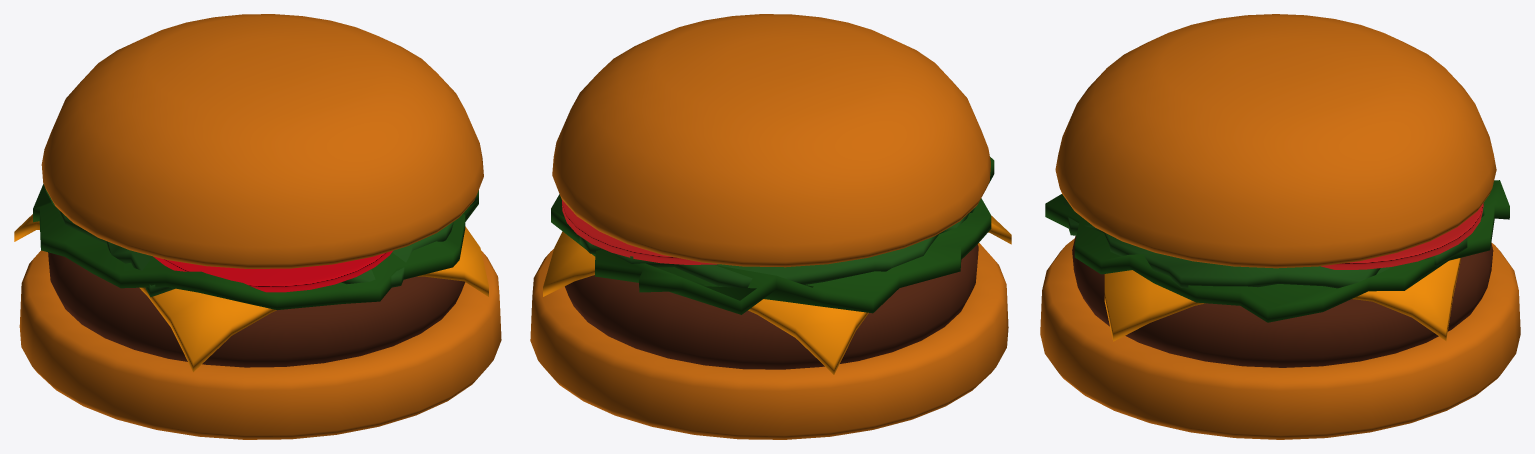
File: burger v1.fbx
The picture shows the model from 3 angles, left to right: view 1: azimuth 30°, elevation 25°; view 2: azimuth 150°, elevation 25°; view 3: azimuth 270°, elevation 25°; orthographic projection.
Visible parts, largest first — view 1: Cylinder.006, Cylinder, Cylinder.001, Cylinder.002, Plane, Cylinder.005, Cylinder.003; view 2: Cylinder.006, Cylinder, Cylinder.001, Cylinder.002, Plane, Cylinder.003, Cylinder.004; view 3: Cylinder.006, Cylinder, Cylinder.001, Cylinder.002, Plane, Cylinder.003, Cylinder.004.
Boxes of the visible parts, x1,y1,x2,y2 form: Cylinder.006: [41, 14, 483, 268]; Cylinder: [19, 250, 501, 439]; Cylinder.001: [48, 252, 465, 367]; Cylinder.002: [33, 184, 478, 309]; Plane: [14, 214, 488, 372]; Cylinder.005: [153, 251, 392, 292]; Cylinder.003: [45, 189, 478, 297]; Cylinder.006: [552, 14, 990, 267]; Cylinder: [530, 243, 1008, 439]; Cylinder.001: [565, 244, 978, 369]; Cylinder.002: [551, 157, 994, 314]; Plane: [543, 215, 1011, 374]; Cylinder.003: [579, 206, 976, 287]; Cylinder.004: [562, 200, 718, 264]; Cylinder.006: [1055, 14, 1496, 268]; Cylinder: [1040, 238, 1520, 439]; Cylinder.001: [1072, 236, 1493, 367]; Cylinder.002: [1045, 180, 1509, 322]; Plane: [1104, 258, 1460, 341]; Cylinder.003: [1063, 199, 1484, 288]; Cylinder.004: [1321, 203, 1483, 269].
Bounding box in the file's own units: 200 × 130 × 200.
